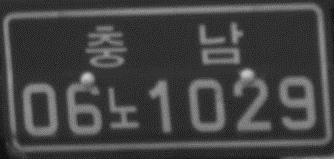0: (21, 79, 61, 139), (186, 75, 228, 132)
1: (146, 78, 175, 136)
2: (231, 72, 275, 135)
6: (64, 78, 103, 136)
9: (275, 73, 317, 136)
노: (102, 83, 142, 133)
충남_D: (83, 19, 246, 72)
